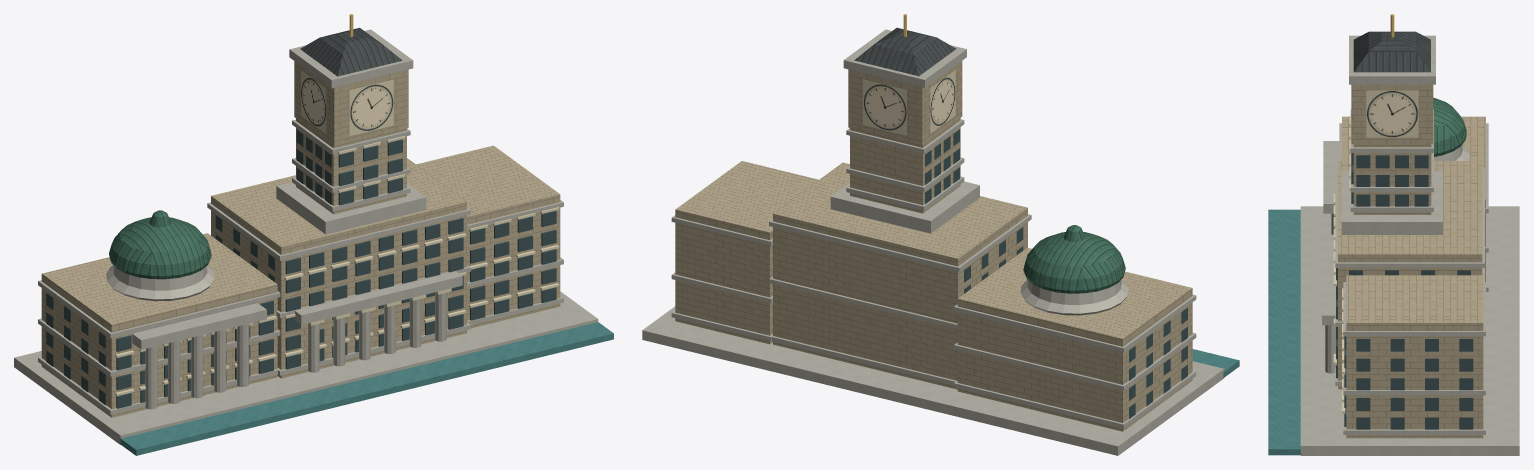
File: bund.glb
The picture shows the model from 3 angles, left to right: view 1: azimuth 30°, elevation 25°; view 2: azimuth 150°, elevation 25°; view 3: azimuth 270°, elevation 25°; orthographic projection. The views are drawn at different scales.
Parts seen in each view (by area): view 1: 上海外滩; view 2: 上海外滩; view 3: 上海外滩.
Part boxes in pixels (x1=…): 上海外滩: x1=14, y1=14, x2=613, y2=455; 上海外滩: x1=642, y1=14, x2=1239, y2=455; 上海外滩: x1=1268, y1=14, x2=1519, y2=455.
Size of the model in its own units: 16.7 by 11.04 by 7.39.
Materials: 9 (6 with a texture image).
